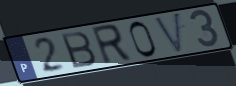0: (128, 19, 159, 59)
2: (33, 36, 68, 76)
3: (189, 7, 222, 51)
B: (59, 29, 99, 70)
R: (89, 22, 135, 67)
V: (152, 10, 184, 56)
